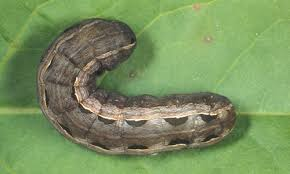Armyworm: (37, 9, 242, 145)
